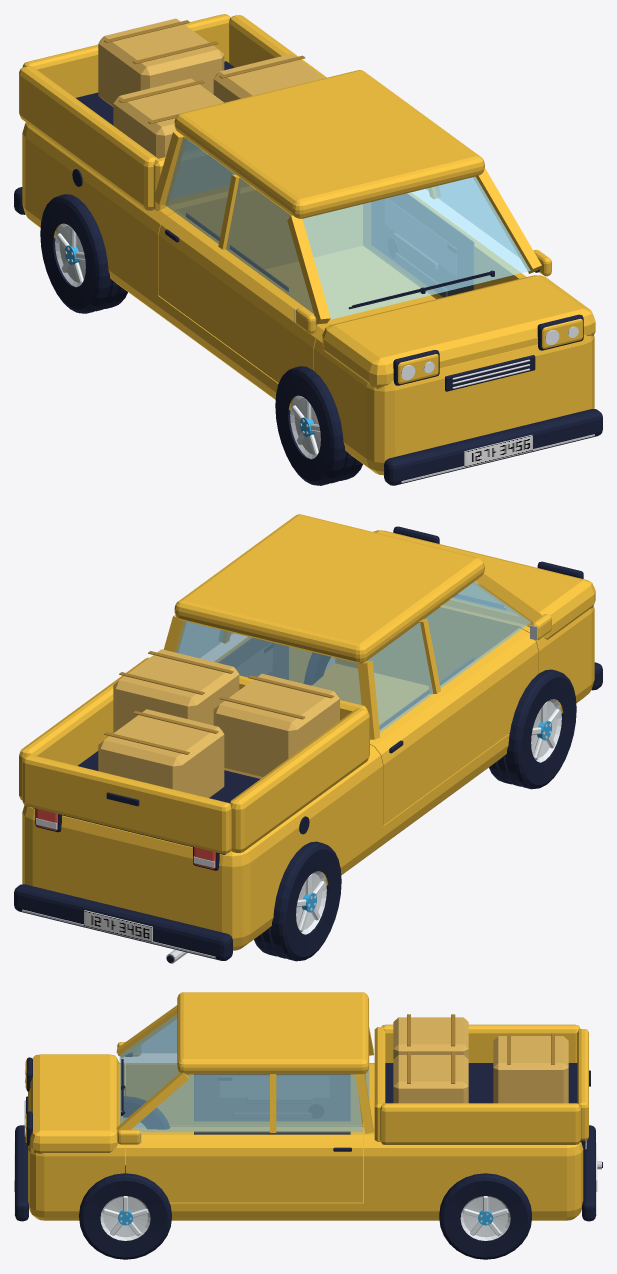
The model's file is V03_pickup_v3.glb.
The picture shows the model from 3 angles, top to bottom: view 1: azimuth 30°, elevation 25°; view 2: azimuth 150°, elevation 25°; view 3: azimuth 270°, elevation 25°; orthographic projection. The views are drawn at different scales.
Visible parts, largest first — view 1: Body, Glass, Static, Door_R, DoorDetail_L, Wheel_RR, Wheel_FR, Trunk, Door_L; view 2: Body, Static, Glass, Door_R, Trunk, Wheel_RR, Wheel_FR, DoorDetail_L, Door_L, Wheel_FL; view 3: Body, Static, Glass, Door_L, DoorDetail_R, Wheel_FL, Wheel_RL, Door_R, Trunk, Wheel_FR, DoorDetail_L.
Boxes of the visible parts, x1,y1,x2,y2 form: Body: [19, 15, 595, 475]; Glass: [165, 136, 530, 319]; Static: [14, 18, 602, 485]; Door_R: [158, 211, 332, 383]; DoorDetail_L: [371, 193, 474, 297]; Wheel_RR: [40, 194, 127, 313]; Wheel_FR: [275, 366, 362, 485]; Trunk: [22, 14, 230, 97]; Door_L: [364, 192, 526, 298]; Body: [19, 514, 595, 950]; Static: [14, 526, 602, 963]; Glass: [176, 581, 530, 732]; Door_R: [370, 621, 538, 825]; Trunk: [22, 754, 231, 854]; Wheel_RR: [254, 841, 341, 961]; Wheel_FR: [489, 669, 576, 789]; DoorDetail_L: [218, 638, 288, 679]; Door_L: [214, 637, 311, 683]; Wheel_FL: [303, 652, 334, 684]; Body: [28, 992, 583, 1220]; Static: [14, 1014, 602, 1221]; Glass: [119, 1014, 369, 1132]; Door_L: [125, 1134, 362, 1202]; DoorDetail_R: [194, 1074, 350, 1120]; Wheel_FL: [79, 1165, 171, 1259]; Wheel_RL: [439, 1173, 531, 1259]; Door_R: [126, 1063, 362, 1125]; Trunk: [577, 1029, 590, 1140]; Wheel_FR: [123, 1089, 169, 1129]; DoorDetail_L: [194, 1131, 351, 1151].
Size of what is drawn, in the model's own units: 1.87 by 1.8 by 5.07.
3 materials, 1 textured.
